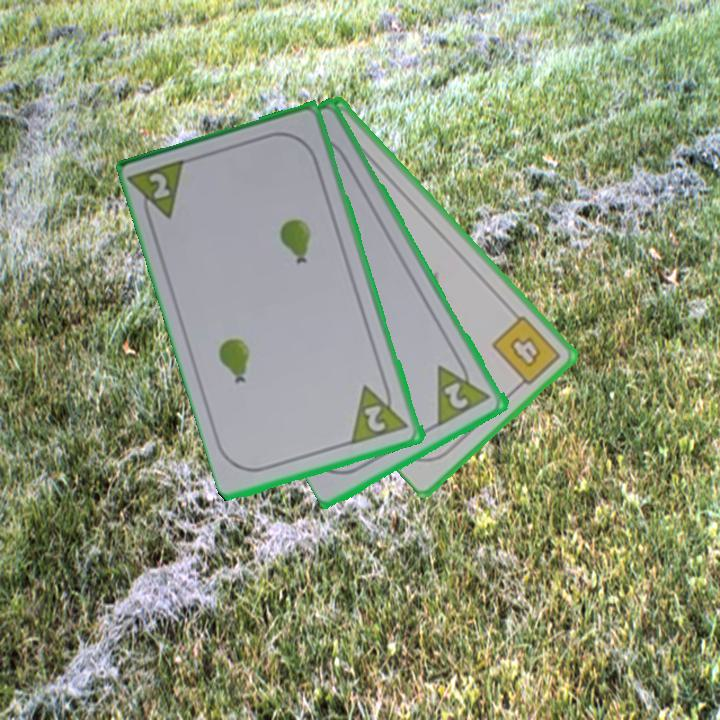2p: (128, 155, 192, 230), (433, 352, 494, 429), (348, 376, 412, 448)
4b: (488, 311, 564, 393)
